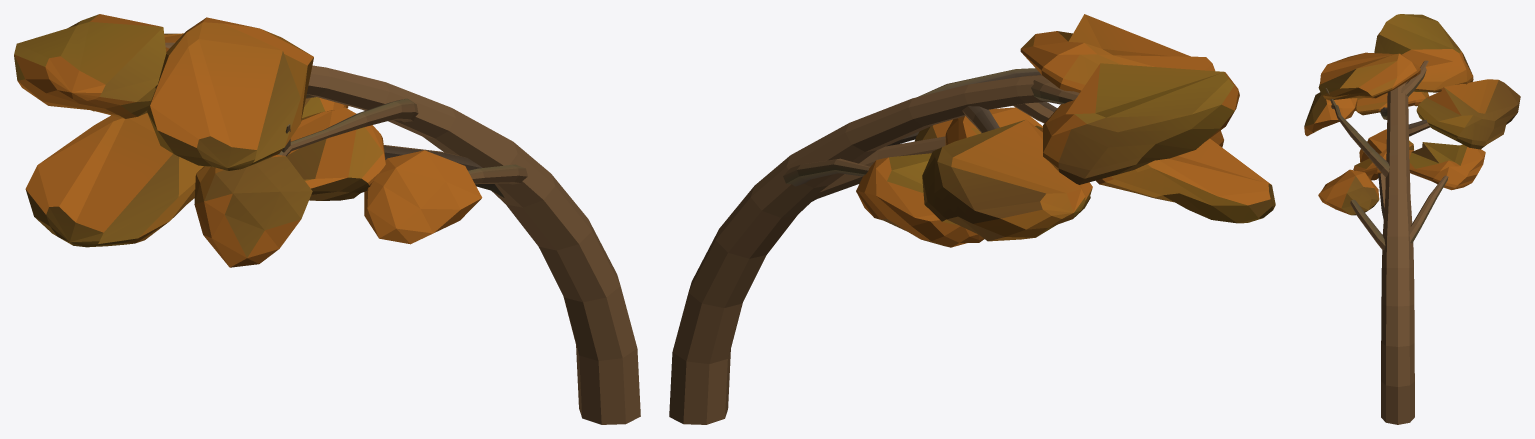
File: Tree72Bend_Autumn.fbx
3 views of the same model, side by side, from view 1: azimuth 30°, elevation 25°; view 2: azimuth 150°, elevation 25°; view 3: azimuth 270°, elevation 25° (orthographic). The views are drawn at different scales.
Parts seen in each view (by area): view 1: Cylinder.001; view 2: Cylinder.001; view 3: Cylinder.001.
Boxes of the visible parts, box(x1,y1,x2,y2) form: Cylinder.001: box(14, 14, 640, 424); Cylinder.001: box(669, 14, 1275, 424); Cylinder.001: box(1304, 14, 1520, 424).
Bounding box in the file's own units: 741 × 572 × 430.
